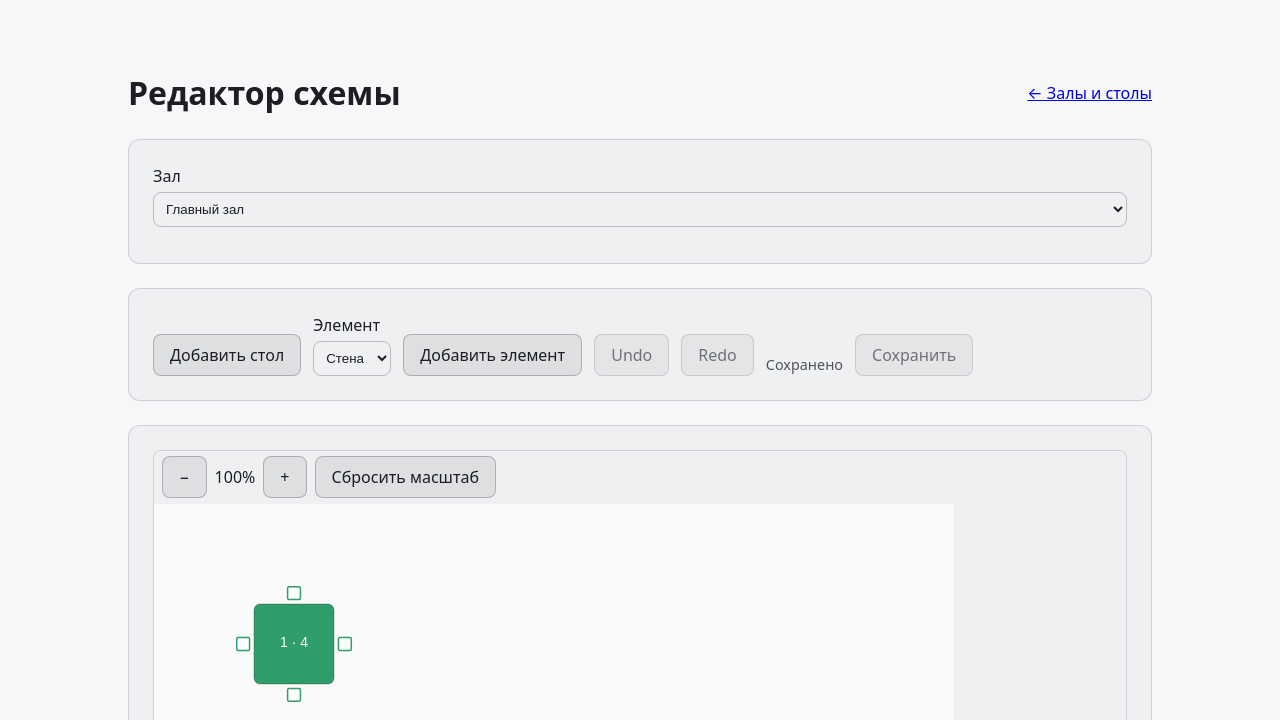
HallEditorPage › keeps the draft on LAYOUT_STALE, blocks save and reloads only on confirm
Expected: the text "Сохранено" is shown, [766, 354, 843, 376]
Click the button "Добавить стол" at [227, 355], box [153, 334, 301, 376]
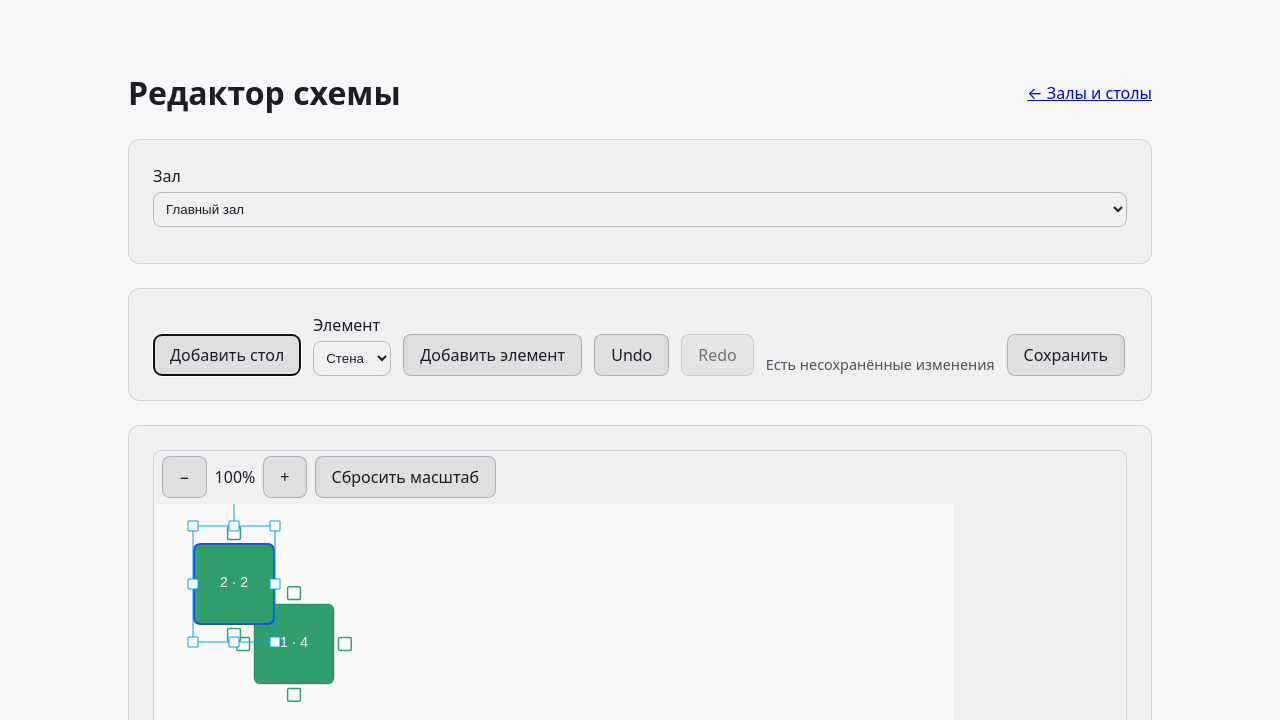
Click the button with aria-label "Сохранить схему" at [1066, 355], box [1007, 334, 1125, 376]
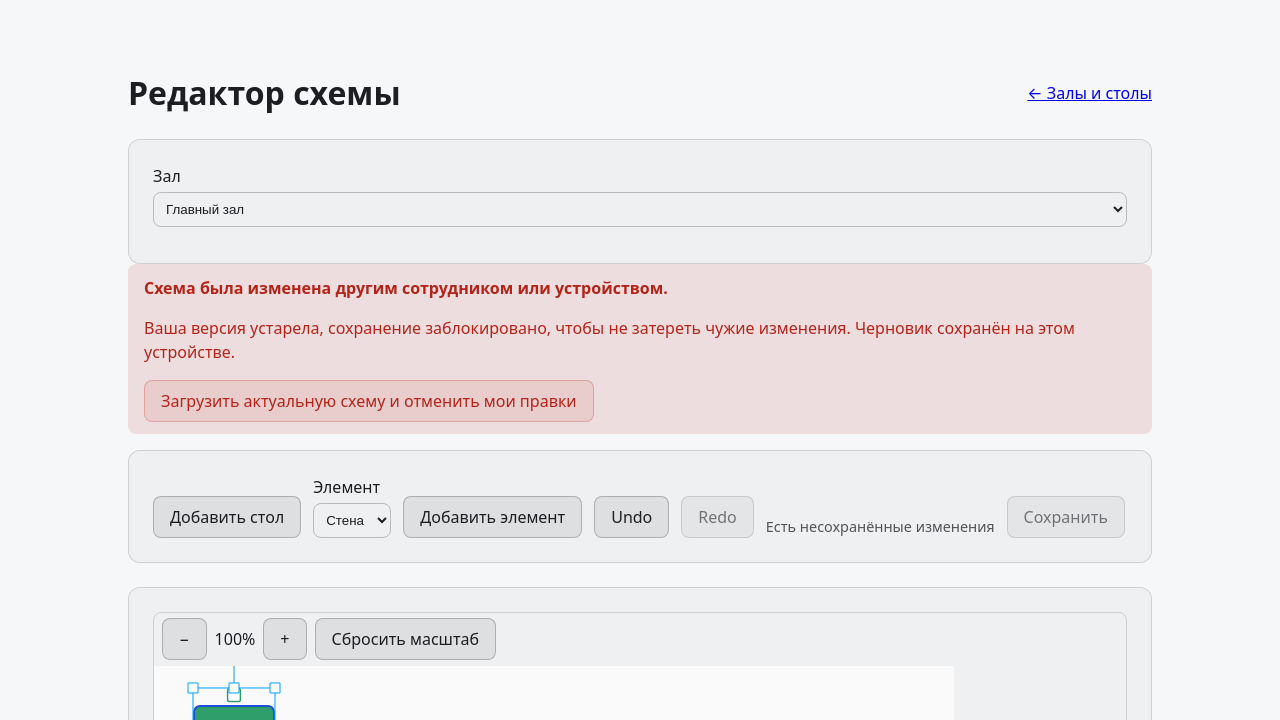
Result: the text with test id "dirty-state" reads "Есть несохранённые изменения" at [766, 517, 995, 536]
Result: the message with test id "stale-banner" shows "изменена другим сотрудником" at [144, 277, 668, 299]
Result: the message with test id "stale-banner" shows "устарела" at [144, 317, 1075, 363]
Explicit confirmation reloads the server schema and drops the draft.
Click the button "Загрузить актуальную схему и отменить мои правки" at [369, 401], box [144, 380, 594, 422]
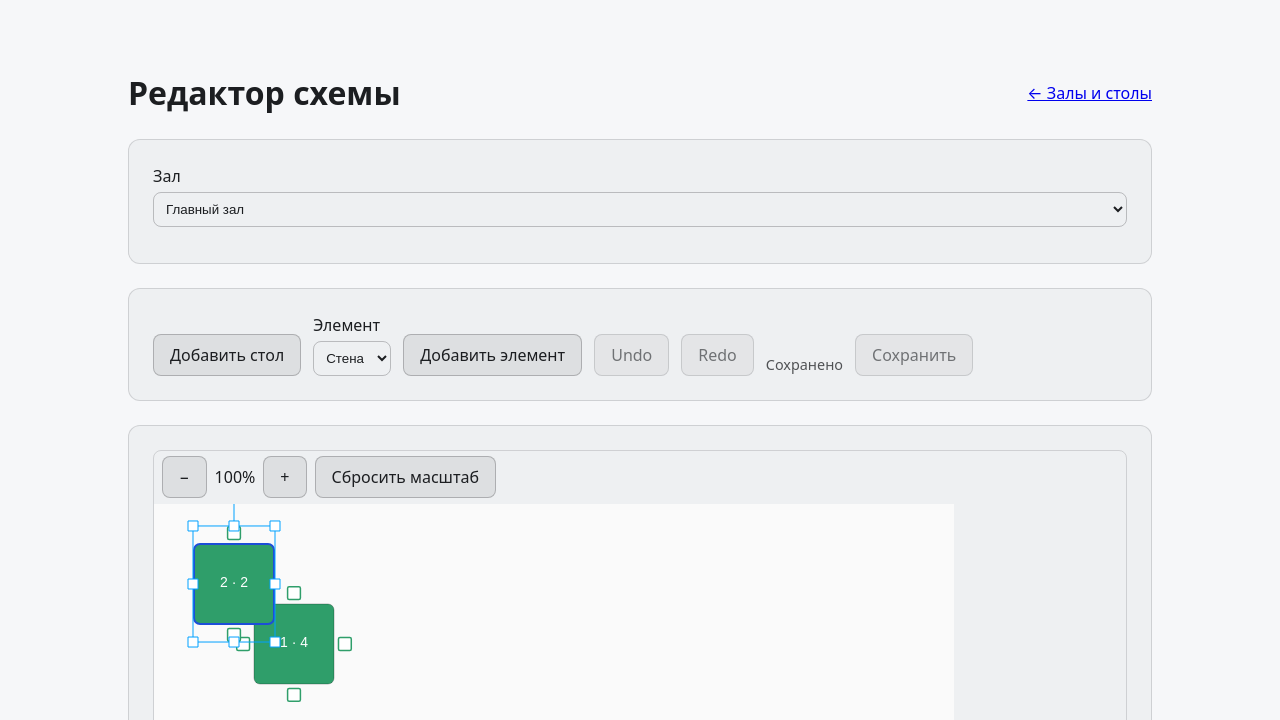
Result: the message with test id "stale-banner" is gone
Result: the text with test id "dirty-state" reads "Сохранено" at [766, 355, 843, 374]
